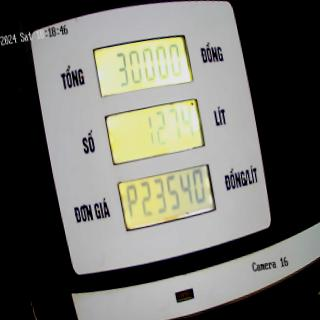screen: (90, 29, 221, 235)
